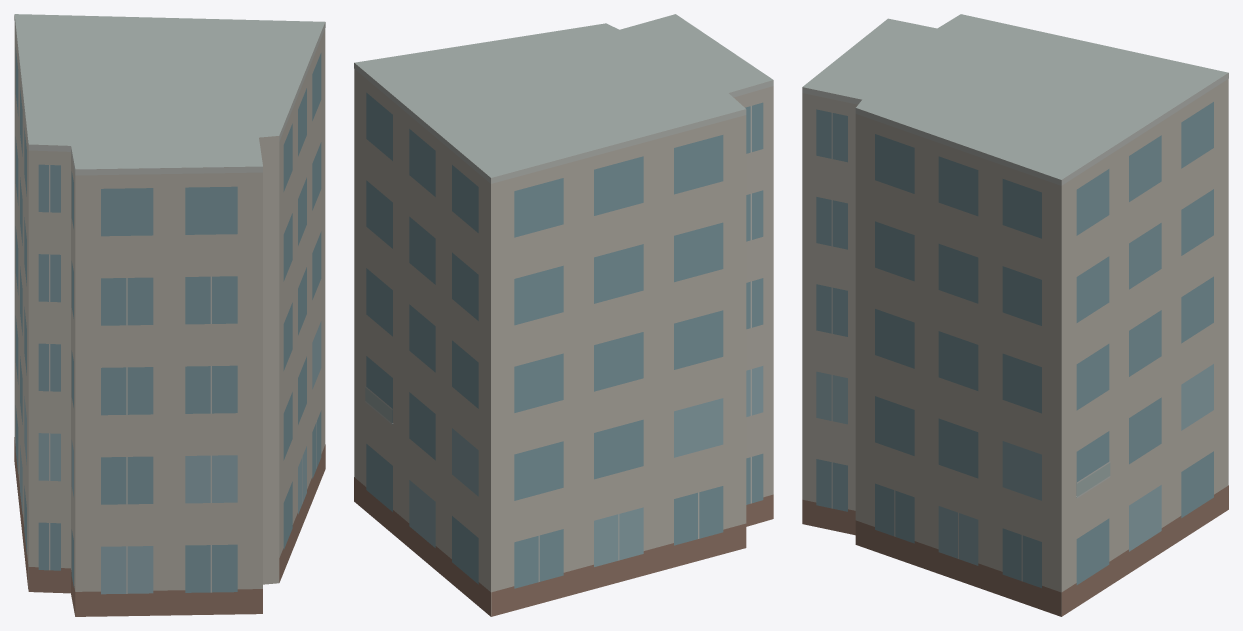
The model's file is survey-upis-32937800.glb.
The picture shows the model from 3 angles, left to right: view 1: azimuth 30°, elevation 25°; view 2: azimuth 150°, elevation 25°; view 3: azimuth 270°, elevation 25°; orthographic projection. The views are drawn at different scales.
Parts seen in each view (by area): view 1: survey-upis-32937800.tmp; view 2: survey-upis-32937800.tmp; view 3: survey-upis-32937800.tmp.
Boxes of the visible parts, x1,y1,x2,y2 form: survey-upis-32937800.tmp: [14, 14, 325, 616]; survey-upis-32937800.tmp: [354, 14, 773, 616]; survey-upis-32937800.tmp: [802, 14, 1228, 616].
Bounding box in the file's own units: 14.71 × 18.05 × 15.98.
